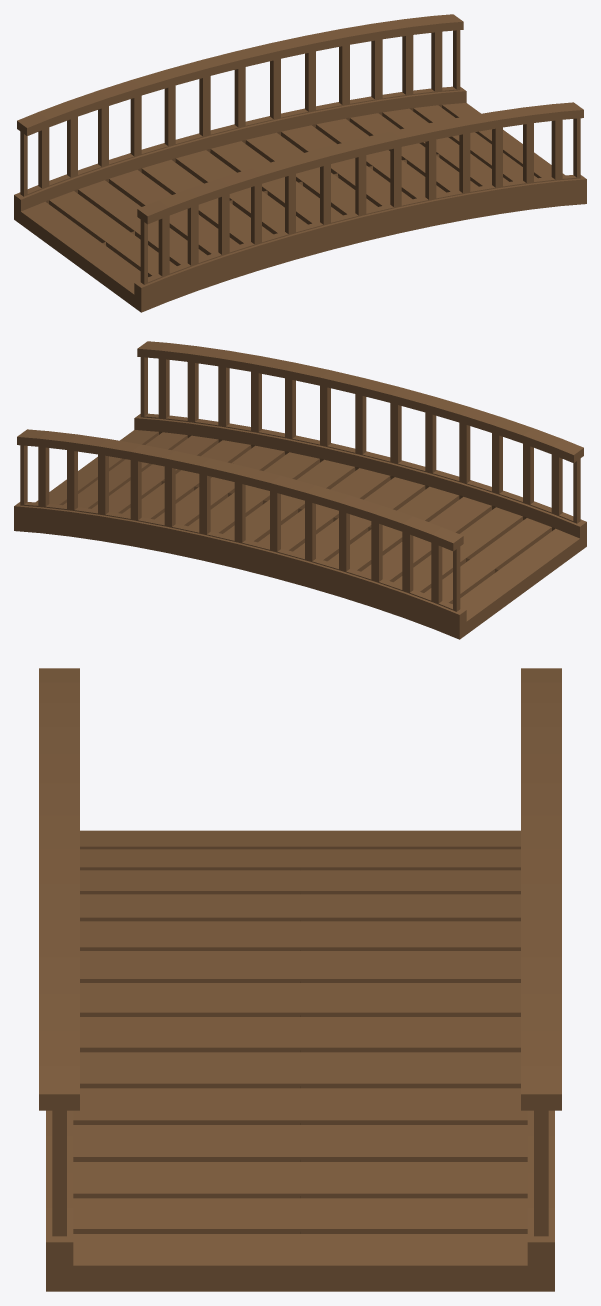
File: Puente.fbx
3 renders of one model, top to bottom at view 1: azimuth 30°, elevation 25°; view 2: azimuth 150°, elevation 25°; view 3: azimuth 270°, elevation 25°, orthographic. The views are drawn at different scales.
Parts seen in each view (by area): view 1: Puente; view 2: Puente; view 3: Puente.
Part boxes in pixels (x1=…): Puente: x1=14, y1=14, x2=586, y2=312; Puente: x1=14, y1=341, x2=586, y2=639; Puente: x1=39, y1=668, x2=561, y2=1291.
Bounding box in the file's own units: 875 × 211 × 444.
